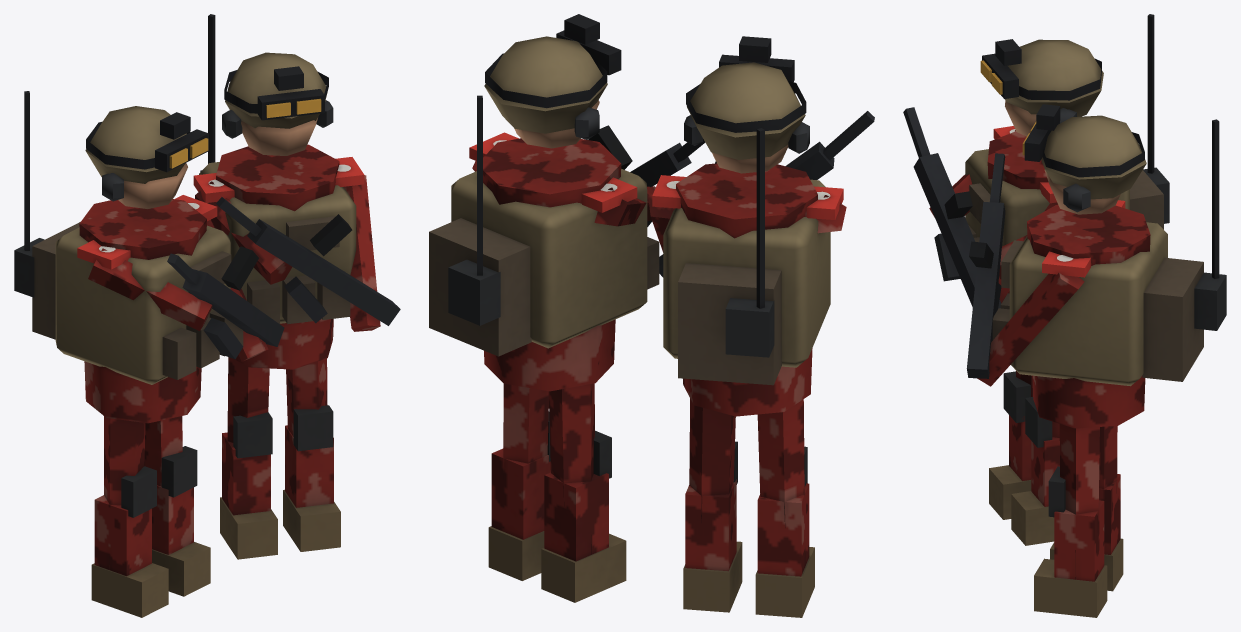
Rendered from sentry_dl7_red.glb.
The picture shows the model from 3 angles, left to right: view 1: azimuth 30°, elevation 25°; view 2: azimuth 150°, elevation 25°; view 3: azimuth 270°, elevation 25°; orthographic projection. The views are drawn at different scales.
Parts seen in each view (by area): view 1: sentry_dl7_red; view 2: sentry_dl7_red; view 3: sentry_dl7_red.
Boxes of the visible parts, x1,y1,x2,y2 form: sentry_dl7_red: (14,14,400,617); sentry_dl7_red: (429,14,874,617); sentry_dl7_red: (903,14,1226,617).
Size of the model in its own units: 0.2548 by 0.3857 by 0.2361.
1 material, 1 textured.
